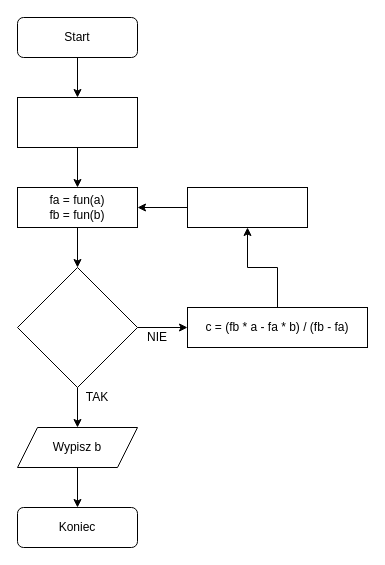
This 385x565 diagram has some shape labels left out. Here are the shapes that lost their labels. From the top down, the centre of each, then its label:
At point (77, 122): "a = M_PI / 2 b = M_PI eps = 0.001".
At point (247, 207): "a = b b = c".
At point (77, 327): "abs(fb) < eps".
